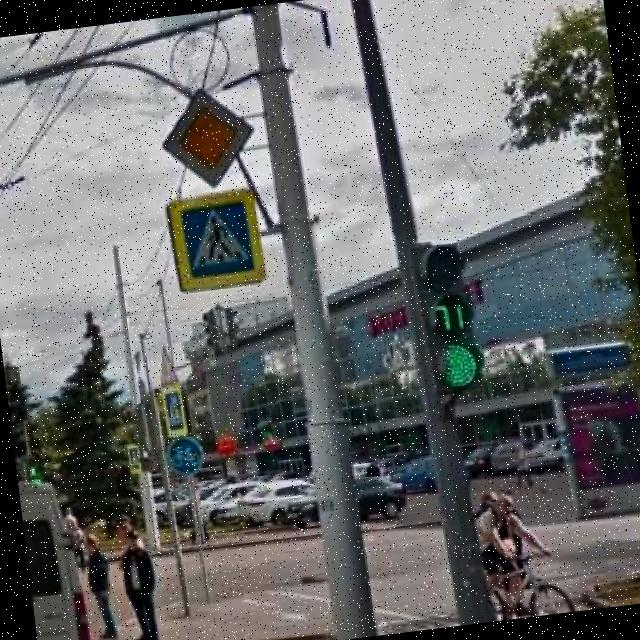Droga z pierwszenstwem: (156, 80, 262, 192)
Przejscie dla pieszych: (161, 186, 270, 296), (160, 383, 188, 439), (125, 440, 144, 476)
